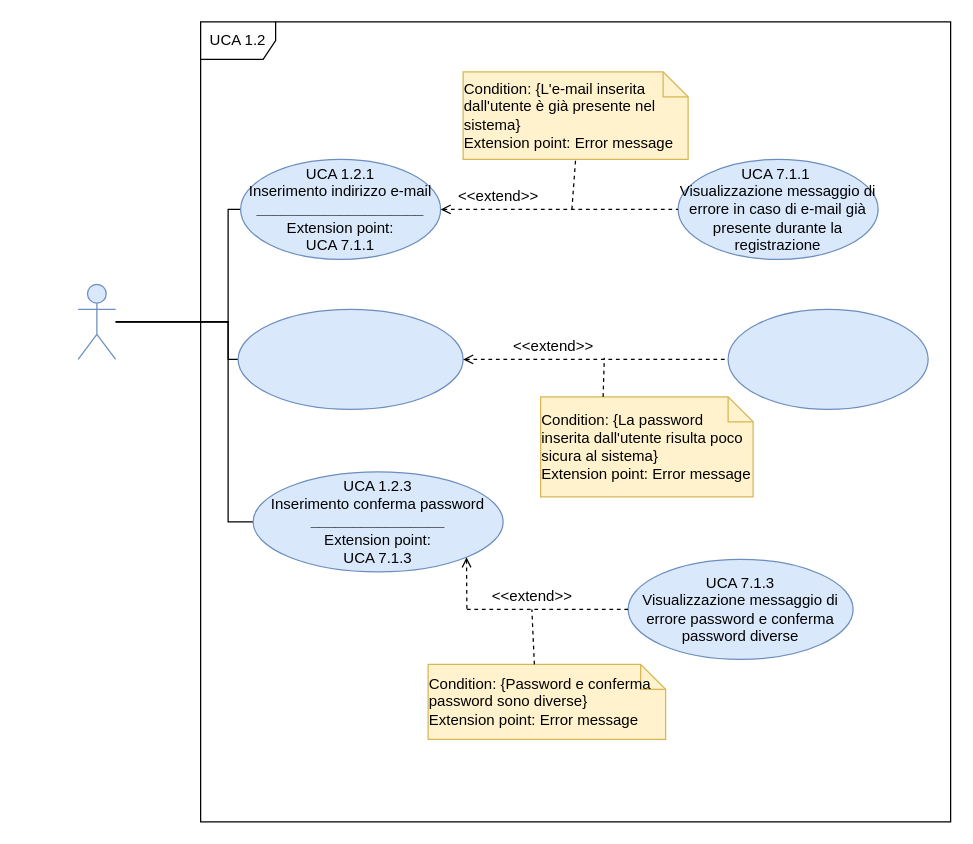
Some shapes in this 973 by 844 pixel diagram are drawn without their labels. Each missing label, with the centre of its shape:
"UCA 1.2.2 Inserimento password _________________ Extension point: UCA 7.1.2" goes at (350,358).
"UCA 7.1.2 Visualizzazione messaggio di errore in caso di password troppo debole" goes at (827,358).
"Utente non autenticato" goes at (96,321).
